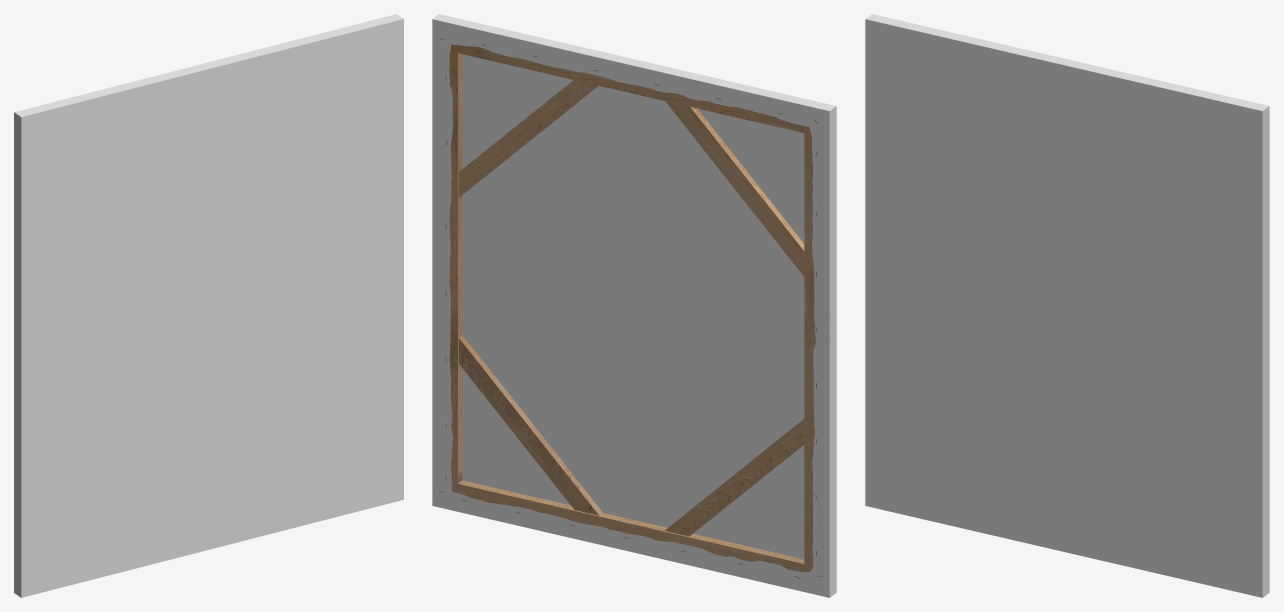
File: Canvas2_SM1.fbx
3 renders of one model, left to right at view 1: azimuth 30°, elevation 25°; view 2: azimuth 150°, elevation 25°; view 3: azimuth 330°, elevation 25°, orthographic.
Parts seen in each view (by area): view 1: Canvas2_SM1; view 2: Canvas2_SM1; view 3: Canvas2_SM1.
Part boxes in pixels (x1,y1,x2,y2): Canvas2_SM1: (14,14,403,597); Canvas2_SM1: (432,14,836,597); Canvas2_SM1: (865,14,1269,597).
Bounding box in the file's own units: 80.33 × 95.16 × 4.27.
